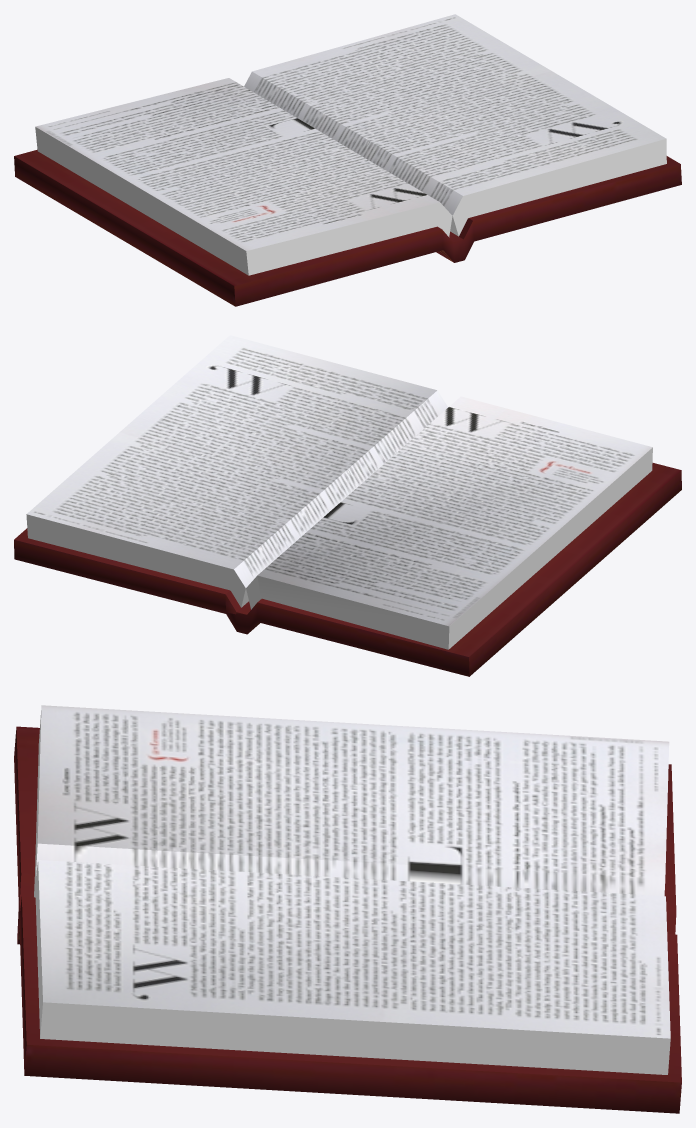
File: TNP0110033.fbx
The picture shows the model from 3 angles, top to bottom: view 1: azimuth 30°, elevation 25°; view 2: azimuth 150°, elevation 25°; view 3: azimuth 270°, elevation 25°; orthographic projection. The views are drawn at different scales.
Visible parts, largest first — view 1: smTNP0110033; view 2: smTNP0110033; view 3: smTNP0110033.
Part boxes in pixels (x1,y1,x2,y2): smTNP0110033: (14,14,681,306); smTNP0110033: (14,335,681,676); smTNP0110033: (14,705,681,1113).
Size of the model in its own units: 31.64 by 6.08 by 26.54.
Materials: 1 (1 with a texture image).
